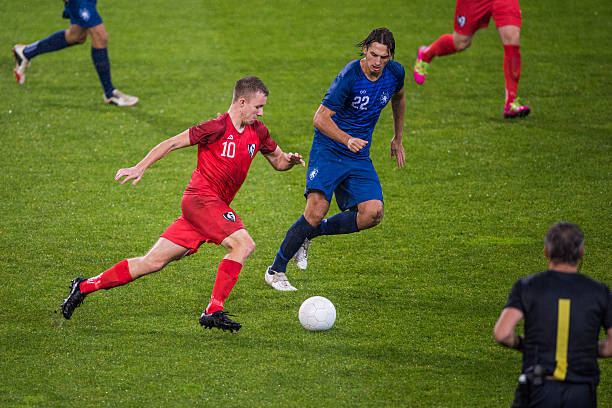ball: (298, 296, 336, 331)
player: (60, 76, 306, 334), (265, 27, 407, 292), (412, 0, 532, 119), (11, 0, 140, 107)
